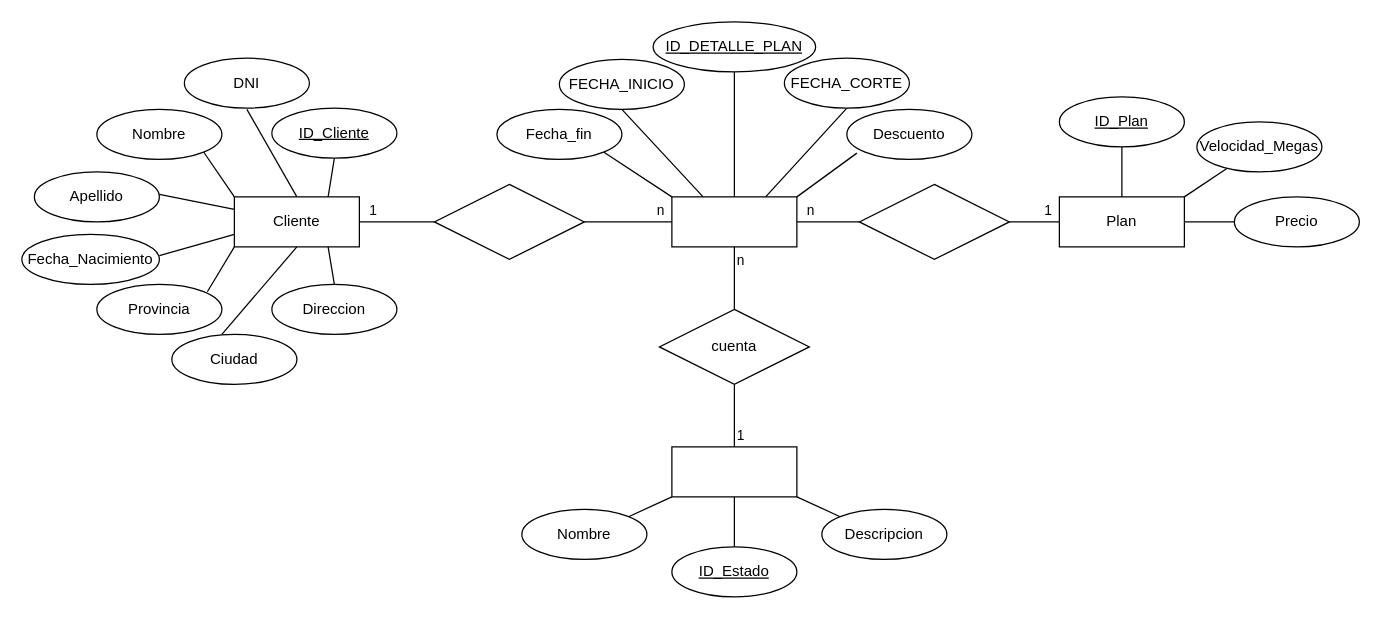
Image size: 1381x619. Some labels were removed from this diagram. Each missing label, with the centre of its shape:
DetallePlan: pixel 734 221
Estado: pixel 734 471
Obtener: pixel 508 221
pertenece: pixel 933 221
